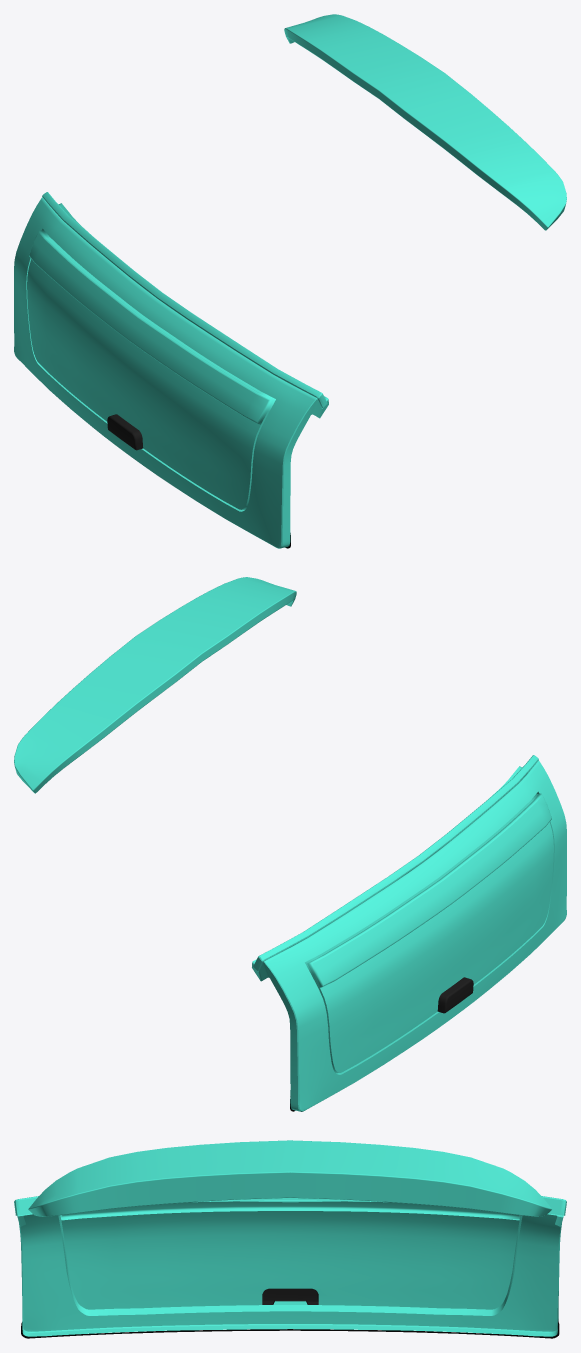
3 renders of one model, top to bottom at view 1: azimuth 30°, elevation 25°; view 2: azimuth 150°, elevation 25°; view 3: azimuth 270°, elevation 25°, orthographic.
Visible parts, largest first — view 1: H025_10_461C_C_1_DaS_H025_10_461C_C, H025_10_461C_C_1_DaS_H025_10_461C_C_E, H025_10_461C_C_H025_10_461C_C_2_D; view 2: H025_10_461C_C_1_DaS_H025_10_461C_C, H025_10_461C_C_1_DaS_H025_10_461C_C_E, H025_10_461C_C_H025_10_461C_C_2_D; view 3: H025_10_461C_C_1_DaS_H025_10_461C_C, H025_10_461C_C_1_DaS_H025_10_461C_C_E, H025_10_461C_C_H025_10_461C_C_3_D, H025_10_461C_C_H025_10_461C_C_2_D.
Part boxes in pixels (x1,y1,x2,y2): H025_10_461C_C_1_DaS_H025_10_461C_C: (14,14,566,548); H025_10_461C_C_1_DaS_H025_10_461C_C_E: (26,192,328,548); H025_10_461C_C_H025_10_461C_C_2_D: (107,414,143,450); H025_10_461C_C_1_DaS_H025_10_461C_C: (14,577,566,1111); H025_10_461C_C_1_DaS_H025_10_461C_C_E: (252,755,554,1111); H025_10_461C_C_H025_10_461C_C_2_D: (437,977,473,1013); H025_10_461C_C_1_DaS_H025_10_461C_C: (14,1140,566,1336); H025_10_461C_C_1_DaS_H025_10_461C_C_E: (15,1196,565,1332); H025_10_461C_C_H025_10_461C_C_3_D: (21,1321,559,1338); H025_10_461C_C_H025_10_461C_C_2_D: (262,1288,318,1304).
Bounding box in the file's own units: 84.82 × 75.99 × 124.
